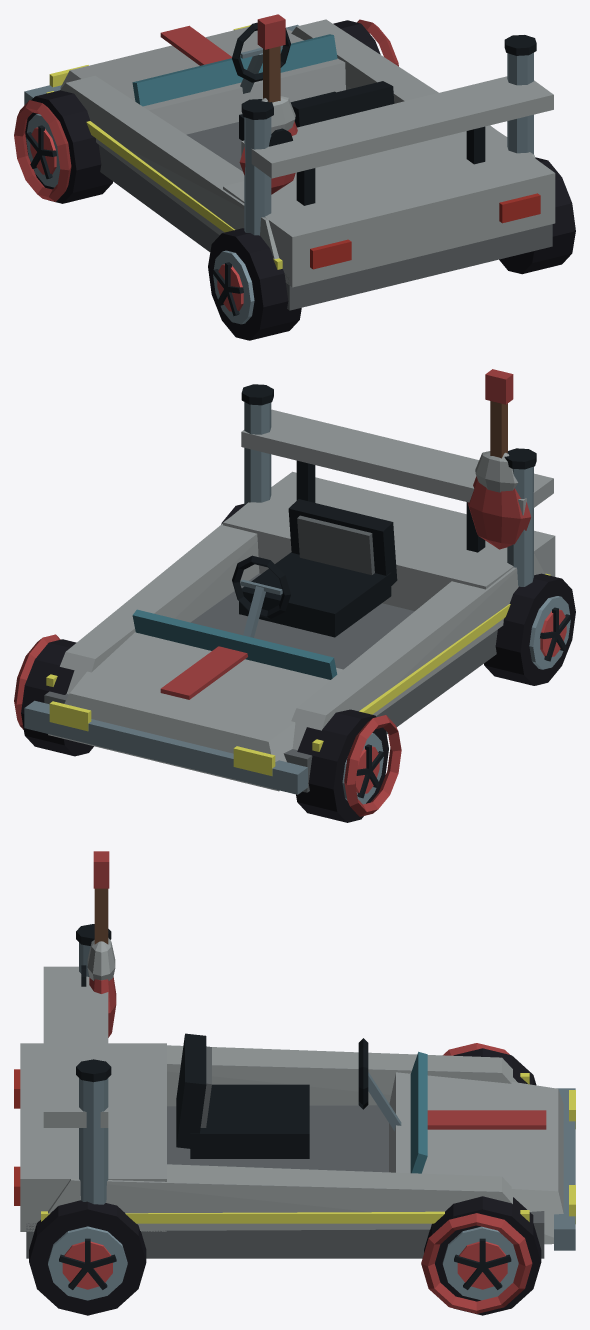
File: kart.glb
The picture shows the model from 3 angles, top to bottom: view 1: azimuth 30°, elevation 25°; view 2: azimuth 150°, elevation 25°; view 3: azimuth 270°, elevation 25°; orthographic projection. The views are drawn at different scales.
Parts seen in each view (by area): view 1: identity-sports-car-sports-car-road-car-body, wheel-rear-left, wheel-front-left, identity-sports-car-motif-exhaust, identity-sports-car-motif-neon, identity-sports-car-driver-cockpit, identity-sports-car-motif-guitar, wheel-rear-right, wheel-front-right; view 2: identity-sports-car-sports-car-road-car-body, identity-sports-car-driver-cockpit, wheel-rear-left, wheel-front-left, identity-sports-car-motif-guitar, identity-sports-car-motif-neon, identity-sports-car-motif-exhaust, wheel-front-right; view 3: identity-sports-car-sports-car-road-car-body, identity-sports-car-driver-cockpit, wheel-rear-right, identity-sports-car-motif-neon, wheel-front-right, identity-sports-car-motif-exhaust, identity-sports-car-motif-guitar, wheel-front-left.
Boxes of the visible parts, x1=… form: identity-sports-car-sports-car-road-car-body: x1=24, y1=19, x2=555, y2=310; wheel-rear-left: x1=208, y1=228, x2=301, y2=340; wheel-front-left: x1=25, y1=90, x2=112, y2=203; identity-sports-car-motif-exhaust: x1=241, y1=35, x2=536, y2=235; identity-sports-car-motif-neon: x1=14, y1=19, x2=398, y2=269; identity-sports-car-driver-cockpit: x1=232, y1=22, x2=394, y2=140; identity-sports-car-motif-guitar: x1=239, y1=14, x2=297, y2=194; wheel-rear-right: x1=499, y1=157, x2=575, y2=274; wheel-front-right: x1=333, y1=20, x2=380, y2=54; identity-sports-car-sports-car-road-car-body: x1=24, y1=409, x2=555, y2=794; identity-sports-car-driver-cockpit: x1=232, y1=499, x2=397, y2=637; wheel-rear-left: x1=484, y1=573, x2=575, y2=685; wheel-front-left: x1=296, y1=709, x2=388, y2=822; identity-sports-car-motif-guitar: x1=467, y1=369, x2=531, y2=549; identity-sports-car-motif-neon: x1=14, y1=573, x2=550, y2=816; identity-sports-car-motif-exhaust: x1=241, y1=384, x2=536, y2=586; wheel-front-right: x1=21, y1=639, x2=93, y2=756; identity-sports-car-sports-car-road-car-body: x1=14, y1=966, x2=575, y2=1258; identity-sports-car-driver-cockpit: x1=176, y1=1033, x2=401, y2=1158; wheel-rear-right: x1=29, y1=1200, x2=146, y2=1315; identity-sports-car-motif-neon: x1=41, y1=1043, x2=532, y2=1313; wheel-front-right: x1=424, y1=1196, x2=541, y2=1315; identity-sports-car-motif-exhaust: x1=76, y1=924, x2=111, y2=1204; identity-sports-car-motif-guitar: x1=81, y1=851, x2=116, y2=1037; wheel-front-left: x1=453, y1=1048, x2=536, y2=1085.
Size of the model in its own units: 2.13 by 1.8 by 2.88.
